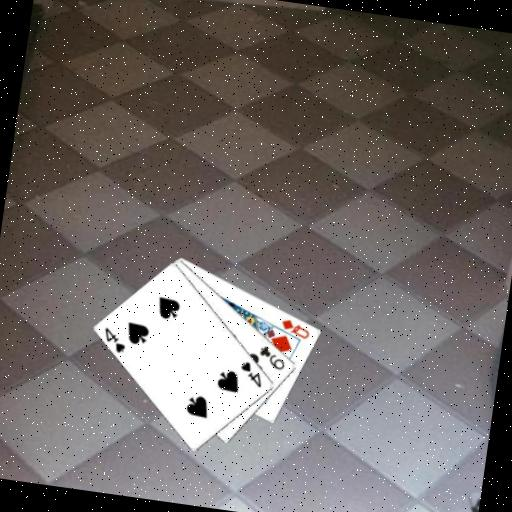4S: (99, 324, 130, 356), (236, 358, 267, 389)
9C: (255, 342, 290, 373)
QD: (277, 315, 313, 341)
